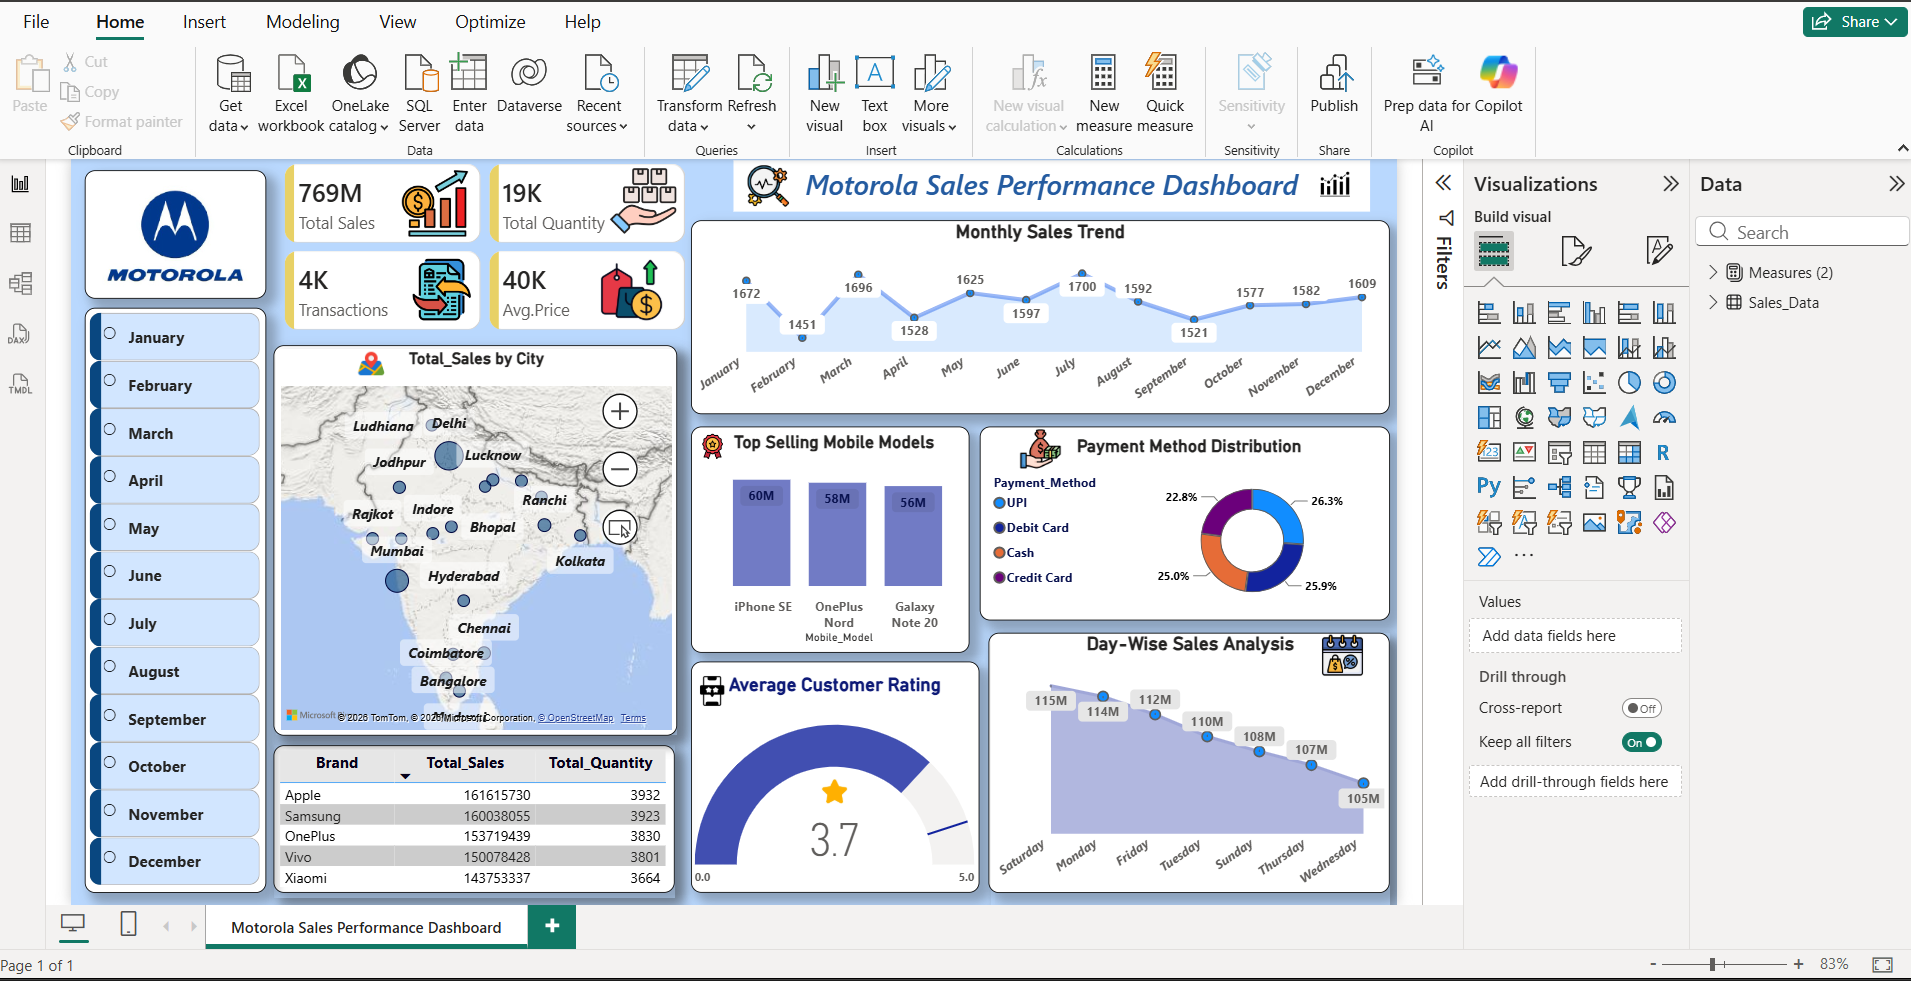

This screenshot's page, from the dashboard's own definition file:
{"tool":"powerbi","page":{"name":"Motorola Sales Performance Dashboard","canvas":[1280,720],"ordinal":0},"visuals":[{"type":"shape","box":[195.4,565.8,387.3,142.4],"z":0},{"type":"shape","box":[13.3,10.9,174.9,124.3],"z":1000},{"type":"image","box":[13.3,20.5,174.9,107.4],"z":2000},{"type":"shape","box":[13.3,143.6,174.9,564.6],"z":3000},{"type":"cardVisual","fields":{"Data":["Sales_Data.Total_Sales","Sales_Data.Total_Quantity","Sales_Data.Transactions","Sales_Data.Average"]},"box":[201.5,0,396.9,171.3],"z":4000},{"type":"shape","box":[195.4,179.8,389.7,376.4],"z":5000},{"type":"map","title":"Total_Sales by City","fields":{"Category":["Sales_Data.City"],"Size":["Sales_Data.Total_Sales"]},"box":[197.9,183.4,387.3,372.8],"z":6000},{"type":"shape","box":[598.4,59.1,674.4,187],"z":7000},{"type":"lineChart","title":"Monthly Sales Trend ","fields":{"Y":["Sales_Data.Total_Quantity"],"Category":["Sales_Data.Date.Variation.Date Hierarchy.Month"]},"box":[598.4,59.1,674.4,187],"z":8000},{"type":"shape","box":[598.4,258.2,269,218.4],"z":9000},{"type":"clusteredColumnChart","title":"   Top Selling Mobile Models","fields":{"Y":["Sales_Data.Total_Sales"],"Category":["Sales_Data.Mobile_Model"]},"box":[594.8,263,283.5,209.9],"z":10000},{"type":"shape","box":[877.1,258.2,395.7,187],"z":11000},{"type":"donutChart","title":"Payment Method Distribution","fields":{"Category":["Sales_Data.Payment_Method"],"Y":["Sales_Data.Transactions"]},"box":[885.5,266.6,387.3,171.3],"z":12000},{"type":"shape","box":[598.4,485,278.7,223.2],"z":13000},{"type":"gauge","title":"     Average Customer Rating","fields":{"Y":["Sales_Data.Average_Rating"]},"box":[597.2,497.1,279.9,223.2],"z":14000},{"type":"shape","box":[885.5,457.2,387.3,250.9],"z":15000},{"type":"tableEx","fields":{"Values":["Sales_Data.Brand","Sales_Data.Total_Sales","Sales_Data.Total_Quantity"]},"box":[195.4,565.8,387.3,147.2],"z":16000},{"type":"lineChart","title":"Day-Wise Sales Analysis   ","fields":{"Category":["Sales_Data.Day_Name"],"Y":["Sales_Data.Total_Sales"]},"box":[887.9,457.2,384.9,263],"z":17000},{"type":"image","box":[311.3,10.9,79.6,63.9],"z":18000},{"type":"image","box":[325.7,85.7,63.9,80.8],"z":19000},{"type":"image","box":[520,7.2,65.1,66.4],"z":20000},{"type":"image","box":[497.1,91.7,88.1,70],"z":21000},{"type":"textbox","box":[639.4,1.2,614.1,49.5],"z":22000},{"type":"image","box":[639.4,6,67.6,39.8],"z":23000},{"type":"image","box":[598.4,263,41,29],"z":24000},{"type":"image","box":[915.7,258.2,39.8,43.4],"z":25000},{"type":"image","box":[1200.4,458.4,53.1,41],"z":26000},{"type":"image","box":[598.4,497.1,41,32.6],"z":27000},{"type":"image","box":[255.8,183.4,67.6,27.7],"z":28000},{"type":"image","box":[1188.3,1.2,65.1,49.5],"z":29000},{"type":"image","box":[717.8,588.7,38.6,43.4],"z":30000},{"type":"advancedSlicerVisual","fields":{"Values":["Sales_Data.Date.Variation.Date Hierarchy.Month"]},"box":[13.3,143.6,174.9,564.6],"z":31000}]}

Visuals, with their boxes on the page's 1280x720 design canvas (x1, y1, x2, y2). These are canvas units, not pixel positions in the 1911x981 screenshot, which may show the page scaled, cropped or inside an application window:
shape: bbox(195, 566, 583, 708)
shape: bbox(13, 11, 188, 135)
image: bbox(13, 20, 188, 128)
shape: bbox(13, 144, 188, 708)
cardVisual - Sales_Data.Total_Sales x Sales_Data.Total_Quantity: bbox(202, 0, 598, 171)
shape: bbox(195, 180, 585, 556)
"Total_Sales by City" map: bbox(198, 183, 585, 556)
shape: bbox(598, 59, 1273, 246)
"Monthly Sales Trend " lineChart: bbox(598, 59, 1273, 246)
shape: bbox(598, 258, 867, 477)
"   Top Selling Mobile Models" clusteredColumnChart: bbox(595, 263, 878, 473)
shape: bbox(877, 258, 1273, 445)
"Payment Method Distribution" donutChart: bbox(886, 267, 1273, 438)
shape: bbox(598, 485, 877, 708)
"     Average Customer Rating" gauge: bbox(597, 497, 877, 720)
shape: bbox(886, 457, 1273, 708)
tableEx - Sales_Data.Brand x Sales_Data.Total_Sales: bbox(195, 566, 583, 713)
"Day-Wise Sales Analysis   " lineChart: bbox(888, 457, 1273, 720)
image: bbox(311, 11, 391, 75)
image: bbox(326, 86, 390, 166)
image: bbox(520, 7, 585, 74)
image: bbox(497, 92, 585, 162)
textbox: bbox(639, 1, 1254, 51)
image: bbox(639, 6, 707, 46)
image: bbox(598, 263, 639, 292)
image: bbox(916, 258, 956, 302)
image: bbox(1200, 458, 1254, 499)
image: bbox(598, 497, 639, 530)
image: bbox(256, 183, 323, 211)
image: bbox(1188, 1, 1253, 51)
image: bbox(718, 589, 756, 632)
advancedSlicerVisual - Sales_Data.Date.Variation.Date Hierarchy.Month: bbox(13, 144, 188, 708)
